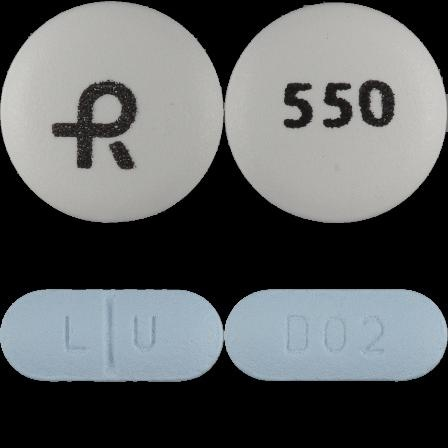51655-308: (0, 0, 224, 224)
